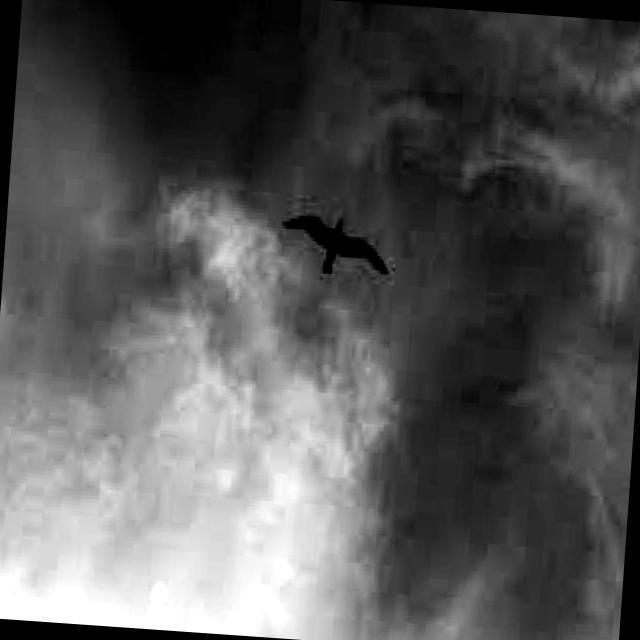bird: (276, 200, 398, 286)
